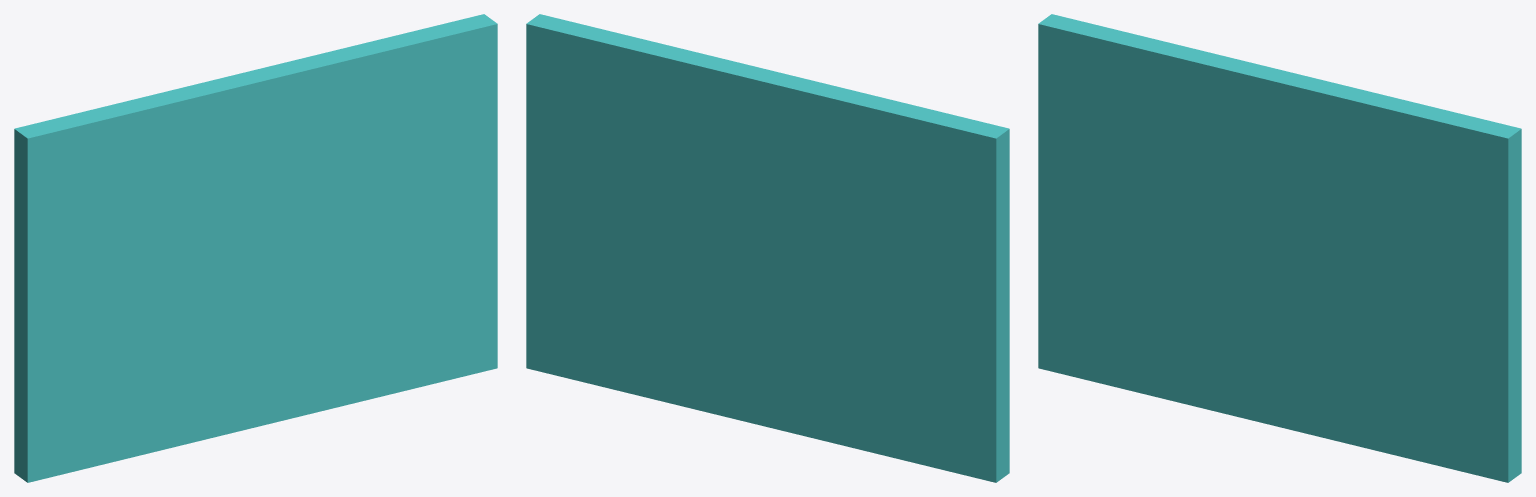
Rendered from Door01-Window.gltf.
The picture shows the model from 3 angles, left to right: view 1: azimuth 30°, elevation 25°; view 2: azimuth 150°, elevation 25°; view 3: azimuth 330°, elevation 25°; orthographic projection.
Bounding box in the file's own units: 20 × 14 × 1.
